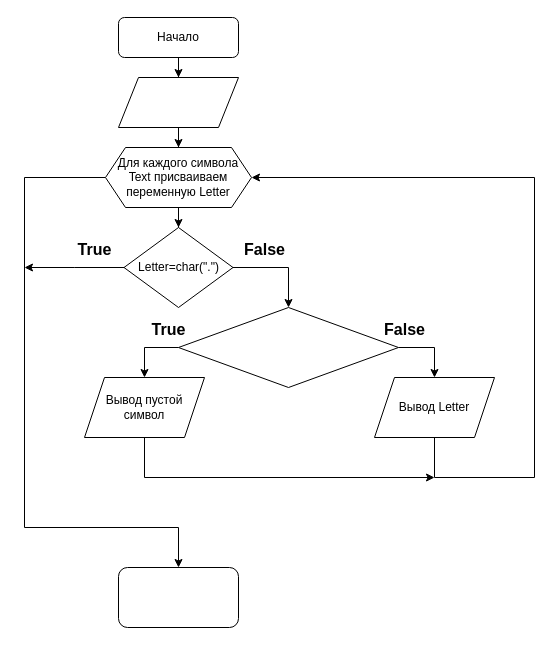
Some shapes in this 560 by 645 pixel diagram are drawn without their labels. The centre of each missing label's shape, as x and y in pixels:
Letter=char(числа и знаки "+","-"): (x=288, y=347)
Ввод var Text: (x=178, y=102)
Конец: (x=178, y=597)
